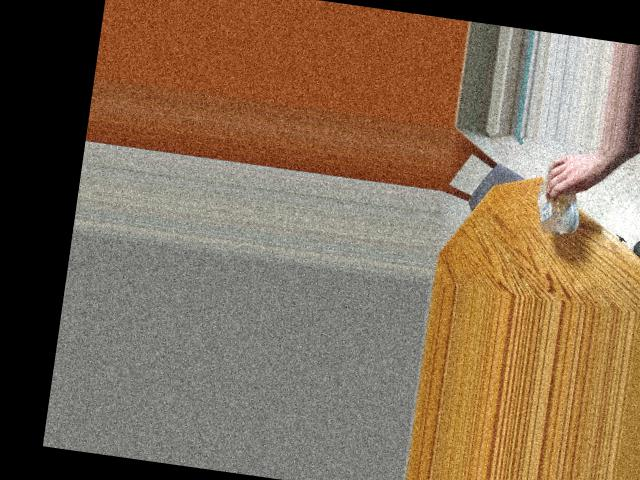cheese: (532, 156, 592, 225)
